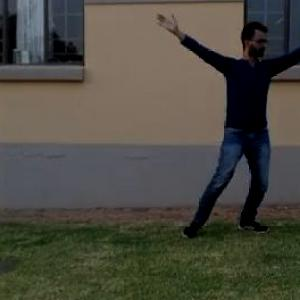takeoff: (157, 12, 299, 228)
